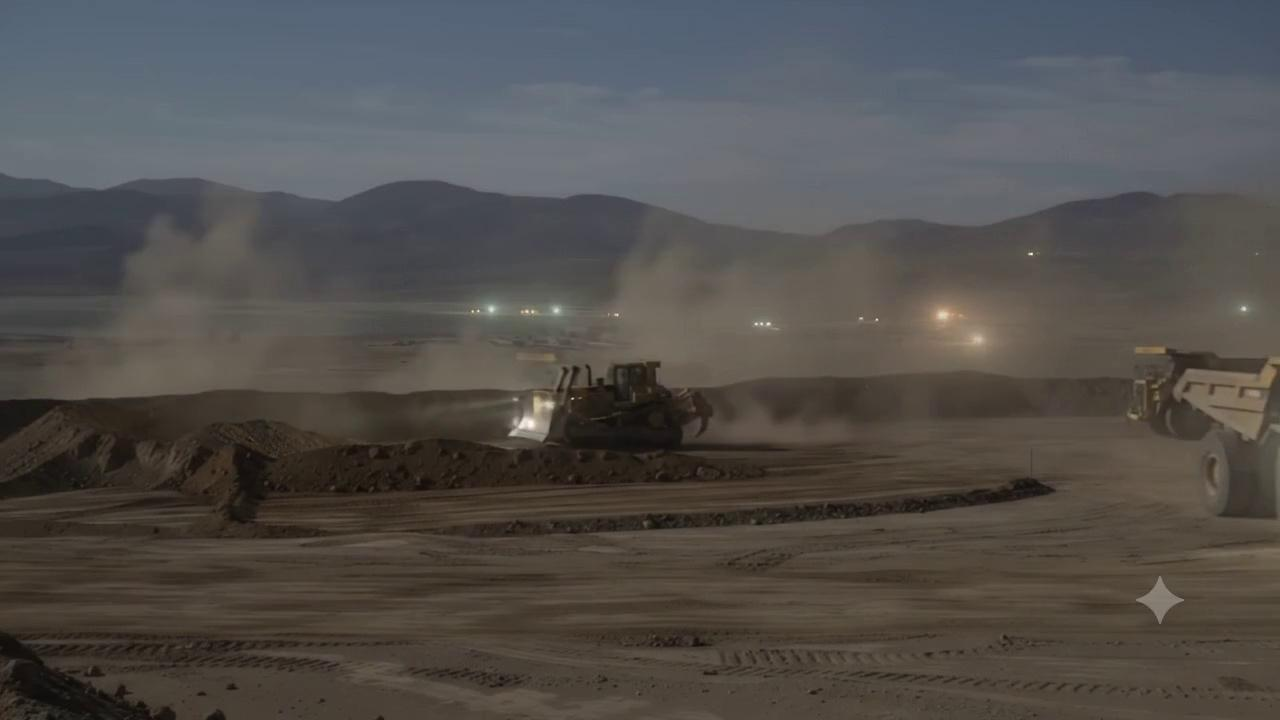CAEX: (1126, 346, 1280, 520), (509, 360, 714, 452)
